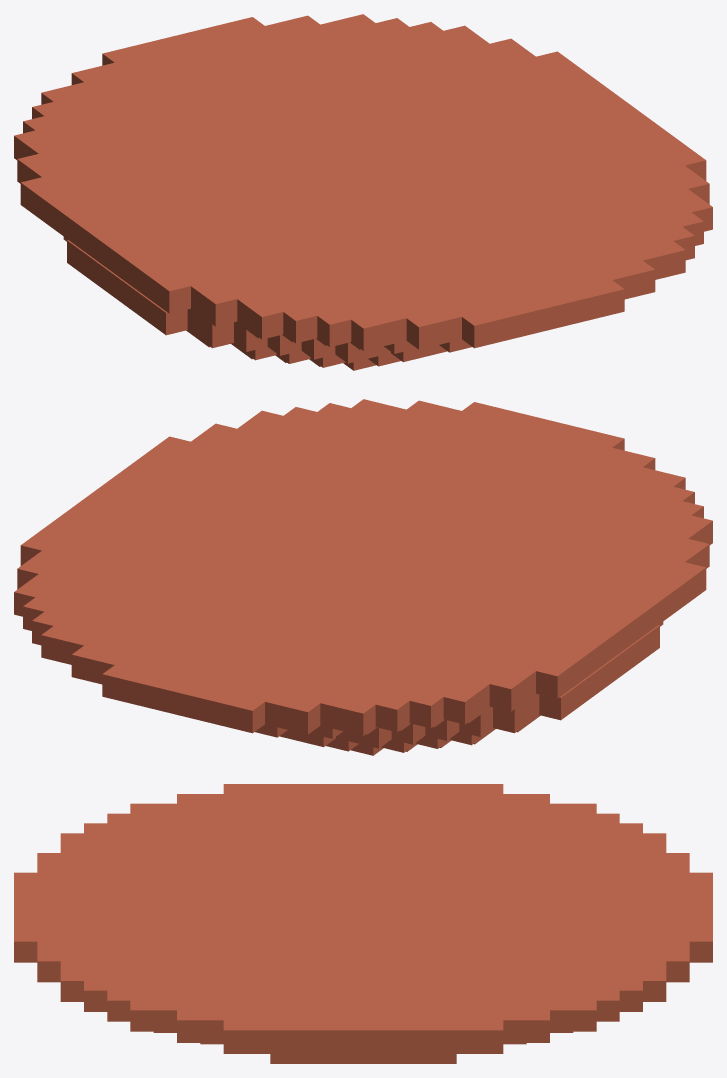
The model's file is snakeking-0.obj.
3 views of the same model, one above another, from view 1: azimuth 30°, elevation 25°; view 2: azimuth 150°, elevation 25°; view 3: azimuth 270°, elevation 25° (orthographic). The views are drawn at different scales.
Bounding box in the file's own units: 2.5 × 0.6 × 3.
1 material, 1 textured.
